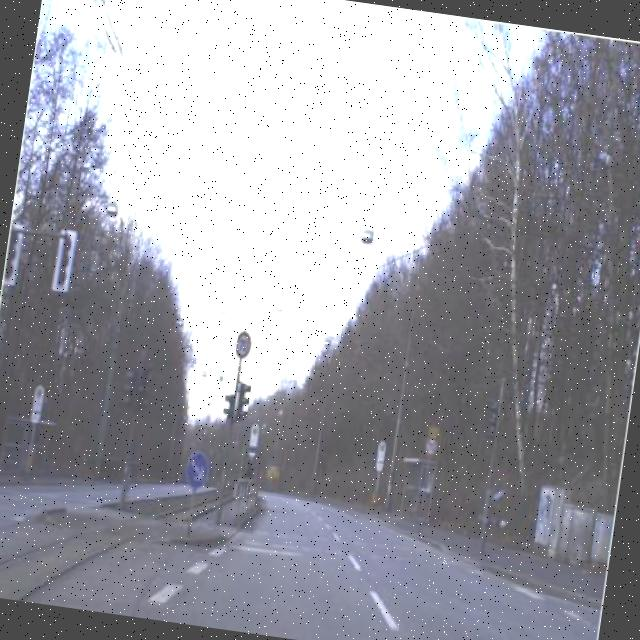Ograniczenie predkosci do 70: (232, 331, 253, 362), (422, 434, 441, 460)
